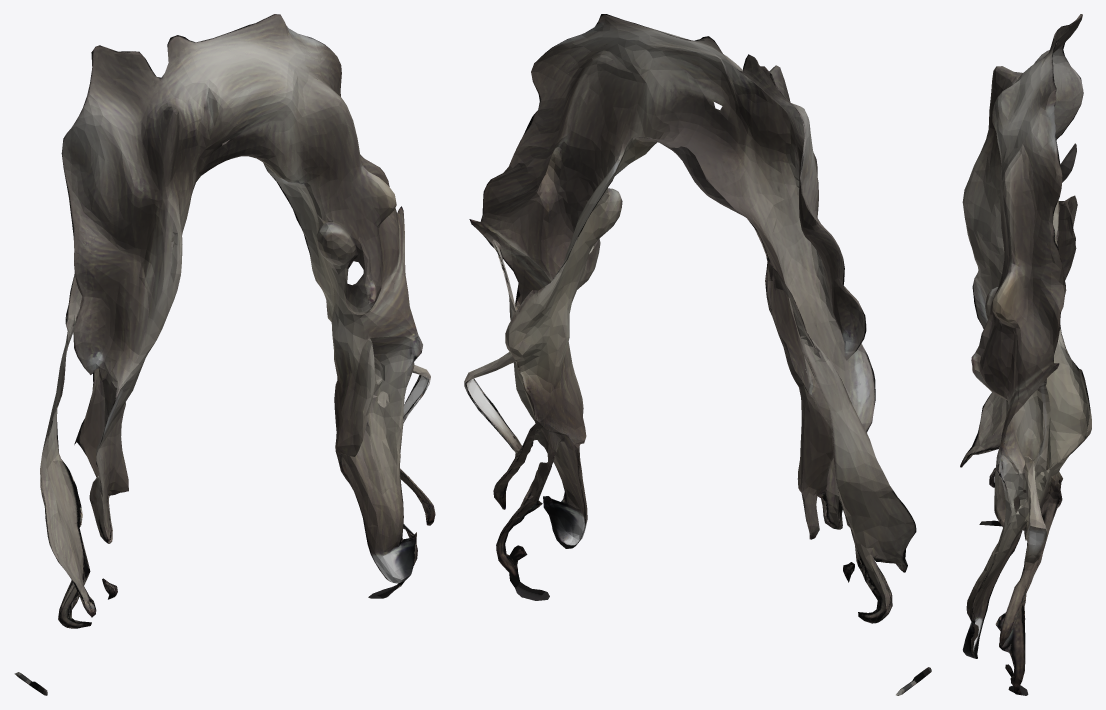
File: sample3.glb
The picture shows the model from 3 angles, left to right: view 1: azimuth 30°, elevation 25°; view 2: azimuth 150°, elevation 25°; view 3: azimuth 270°, elevation 25°; orthographic projection. The views are drawn at different scales.
Visible parts, largest first — view 1: world; view 2: world; view 3: world.
Part boxes in pixels (left/top/right/bottom): world: left=14, top=14, right=435, bottom=695; world: left=464, top=14, right=931, bottom=695; world: left=960, top=14, right=1091, bottom=695.
Bounding box in the file's own units: 0.733 × 0.9992 × 0.2113.
1 material, 1 textured.
